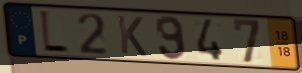2: (76, 12, 109, 56)
4: (196, 17, 227, 63)
7: (231, 17, 264, 66)
9: (154, 14, 189, 62)
K: (115, 14, 149, 59)
L: (37, 8, 71, 56)
